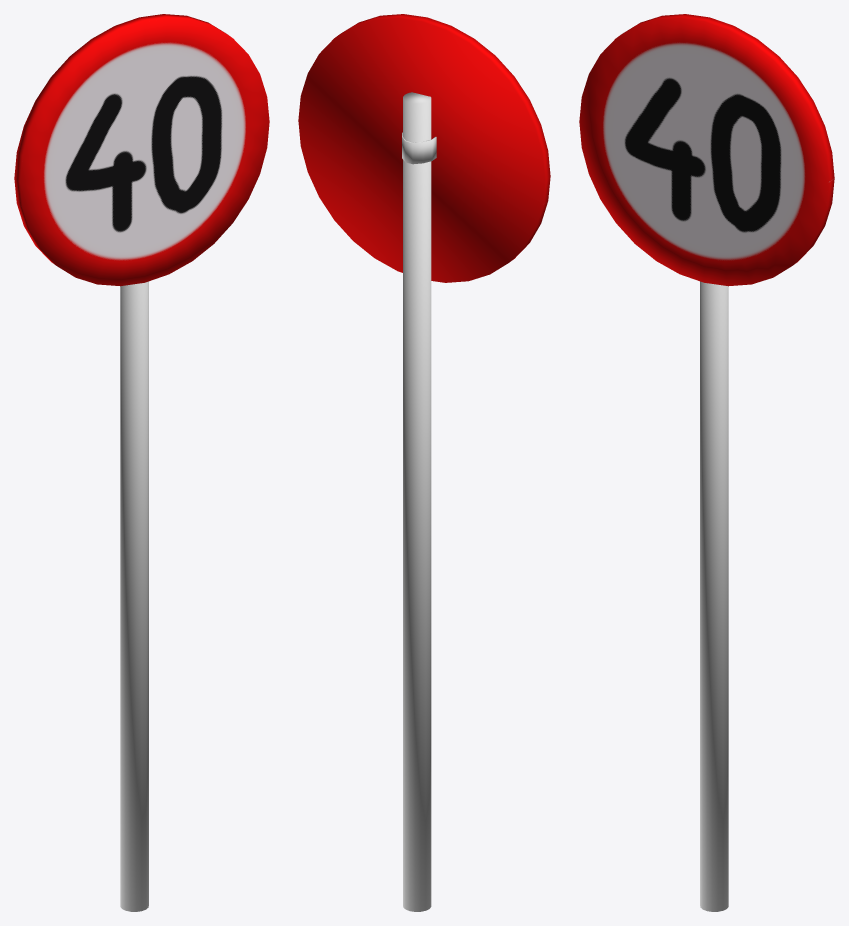
The model's file is speed.glb.
3 views of the same model, side by side, from view 1: azimuth 30°, elevation 25°; view 2: azimuth 150°, elevation 25°; view 3: azimuth 330°, elevation 25° (orthographic).
Visible parts, largest first — view 1: Circle.002, Cylinder; view 2: Circle.002, Cylinder, Cube; view 3: Circle.002, Cylinder.
Part boxes in pixels (x1,y1,x2,y2): Circle.002: (14, 14, 269, 286); Cylinder: (120, 281, 148, 911); Circle.002: (298, 14, 550, 282); Cylinder: (403, 92, 431, 911); Cube: (402, 132, 436, 164); Circle.002: (579, 14, 834, 286); Cylinder: (700, 281, 728, 911).
Size of the model in its own units: 3.19 by 10.89 by 0.4093.
Materials: 2 (1 with a texture image).
